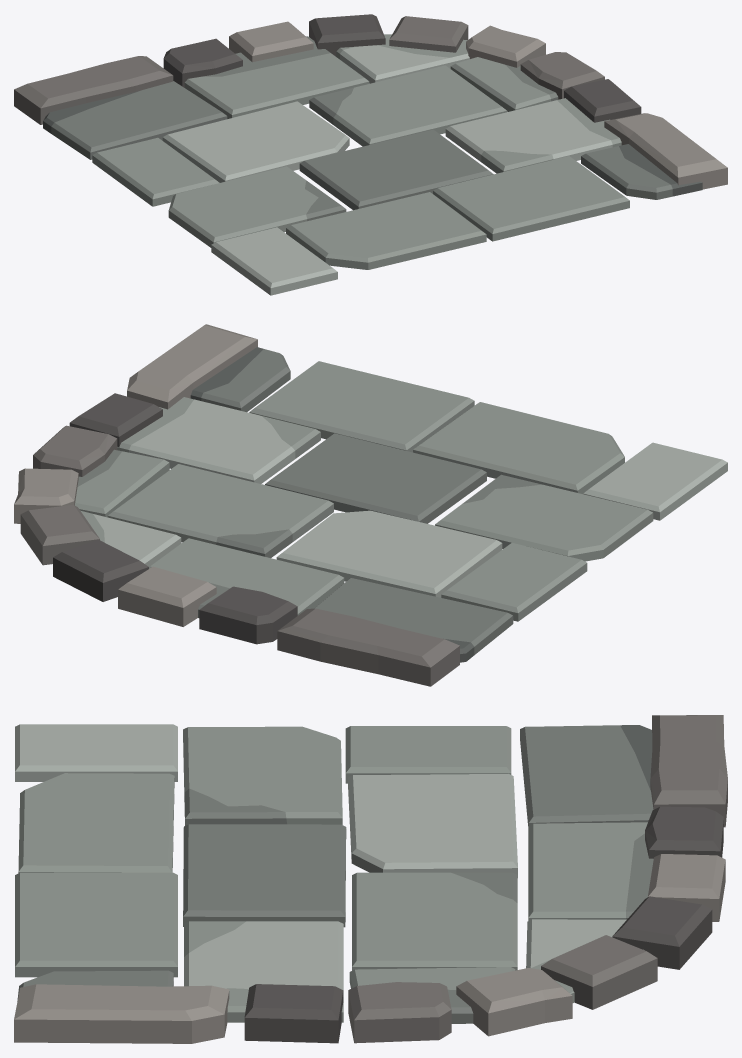
The model's file is SM_Env_Path_Tile_Corner_01.gltf.
3 views of the same model, one above another, from view 1: azimuth 30°, elevation 25°; view 2: azimuth 150°, elevation 25°; view 3: azimuth 270°, elevation 25° (orthographic). The views are drawn at different scales.
Parts seen in each view (by area): view 1: SM_Env_Path_Tile_Corner_01; view 2: SM_Env_Path_Tile_Corner_01; view 3: SM_Env_Path_Tile_Corner_01.
Part boxes in pixels (x1=…): SM_Env_Path_Tile_Corner_01: x1=14, y1=14, x2=727, y2=295; SM_Env_Path_Tile_Corner_01: x1=14, y1=324, x2=727, y2=686; SM_Env_Path_Tile_Corner_01: x1=14, y1=715, x2=727, y2=1043.
Bounding box in the file's own units: 3.17 × 0.1447 × 3.12.
Materials: 1 (1 with a texture image).
